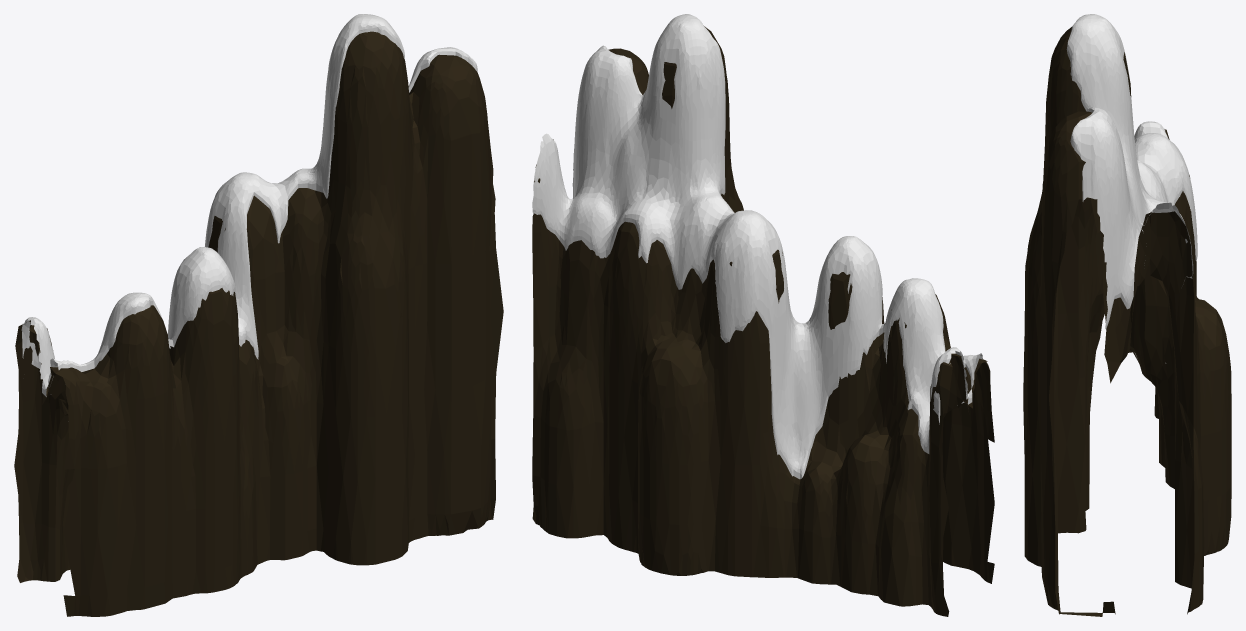
File: Mtn_Wall_W2.fbx
3 views of the same model, side by side, from view 1: azimuth 30°, elevation 25°; view 2: azimuth 150°, elevation 25°; view 3: azimuth 270°, elevation 25° (orthographic). The views are drawn at different scales.
Visible parts, largest first — view 1: Mtn_Wall_W2; view 2: Mtn_Wall_W2; view 3: Mtn_Wall_W2.
Part boxes in pixels (x1,y1,x2,y2): Mtn_Wall_W2: (14,14,503,616); Mtn_Wall_W2: (532,14,994,616); Mtn_Wall_W2: (1023,14,1231,616).
Bounding box in the file's own units: 23658 × 27369 × 9575.
